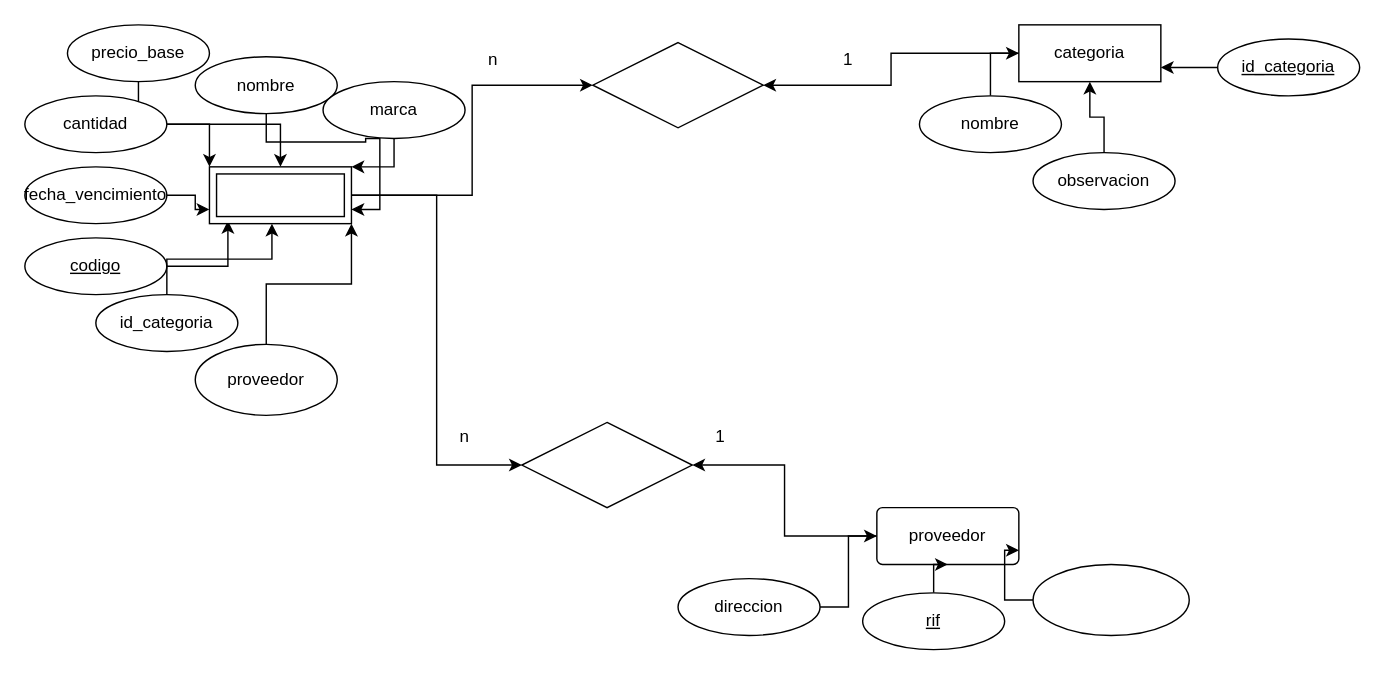
The diagram is 1385 pixels wide and 675 high, and some of its shapes have lost their labels. Each missing label, with the centre of its shape:
"entrega" goes at [606,464].
"nombre_proveedor" goes at [1110,599].
"productos" goes at [279,194].
"tiene" goes at [677,84].
